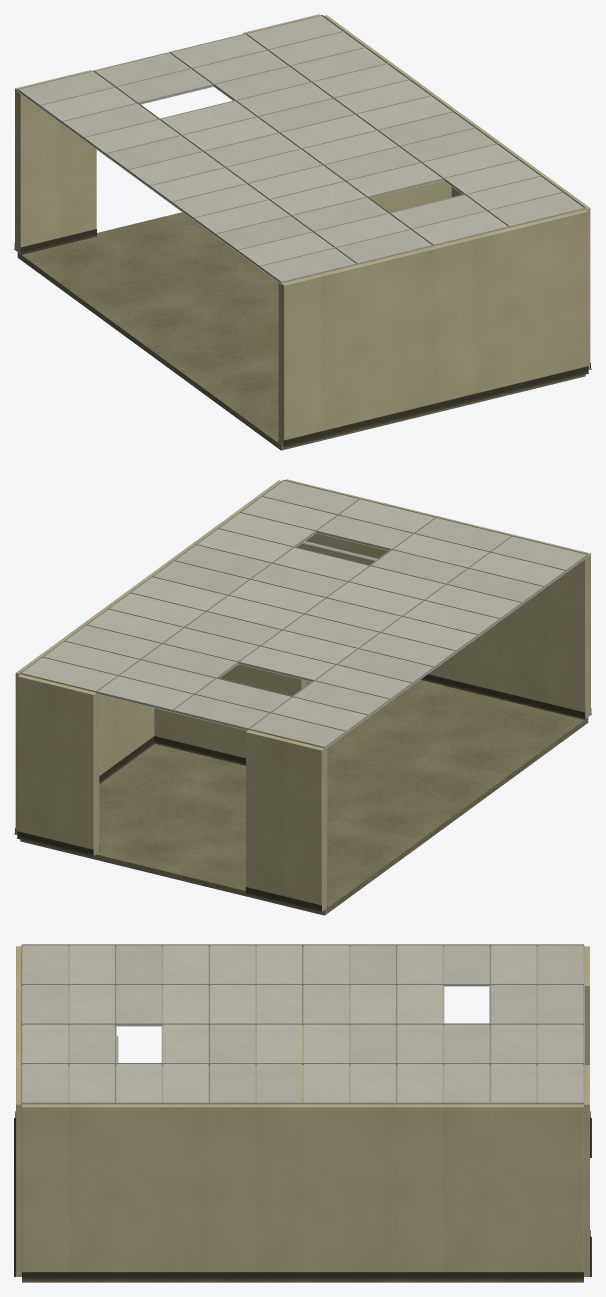
Rendered from short_service_bypass.gltf.
3 views of the same model, one above another, from view 1: azimuth 30°, elevation 25°; view 2: azimuth 150°, elevation 25°; view 3: azimuth 270°, elevation 25° (orthographic). The views are drawn at different scales.
Visible parts, largest first — view 1: short_service_bypass; view 2: short_service_bypass; view 3: short_service_bypass.
Boxes of the visible parts, x1,y1,x2,y2 form: short_service_bypass: (14, 14, 591, 450); short_service_bypass: (14, 479, 591, 915); short_service_bypass: (14, 944, 591, 1282).
Bounding box in the file's own units: 5 × 2.59 × 7.53.
Materials: 6 (6 with a texture image).
